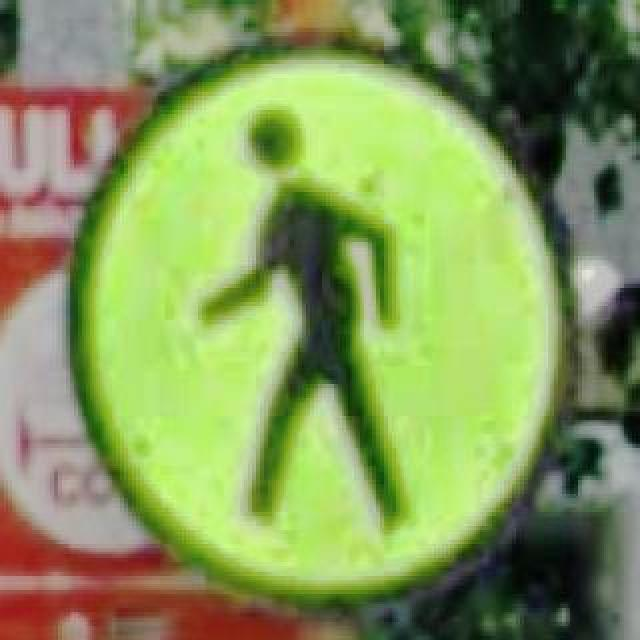pedestrian crossing: (62, 26, 578, 622)
